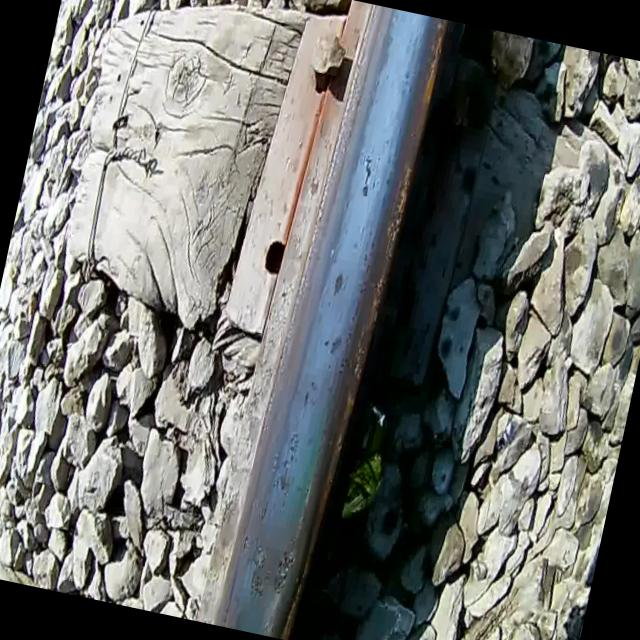Squats: (223, 416, 329, 614), (321, 258, 352, 307), (319, 326, 348, 364)
